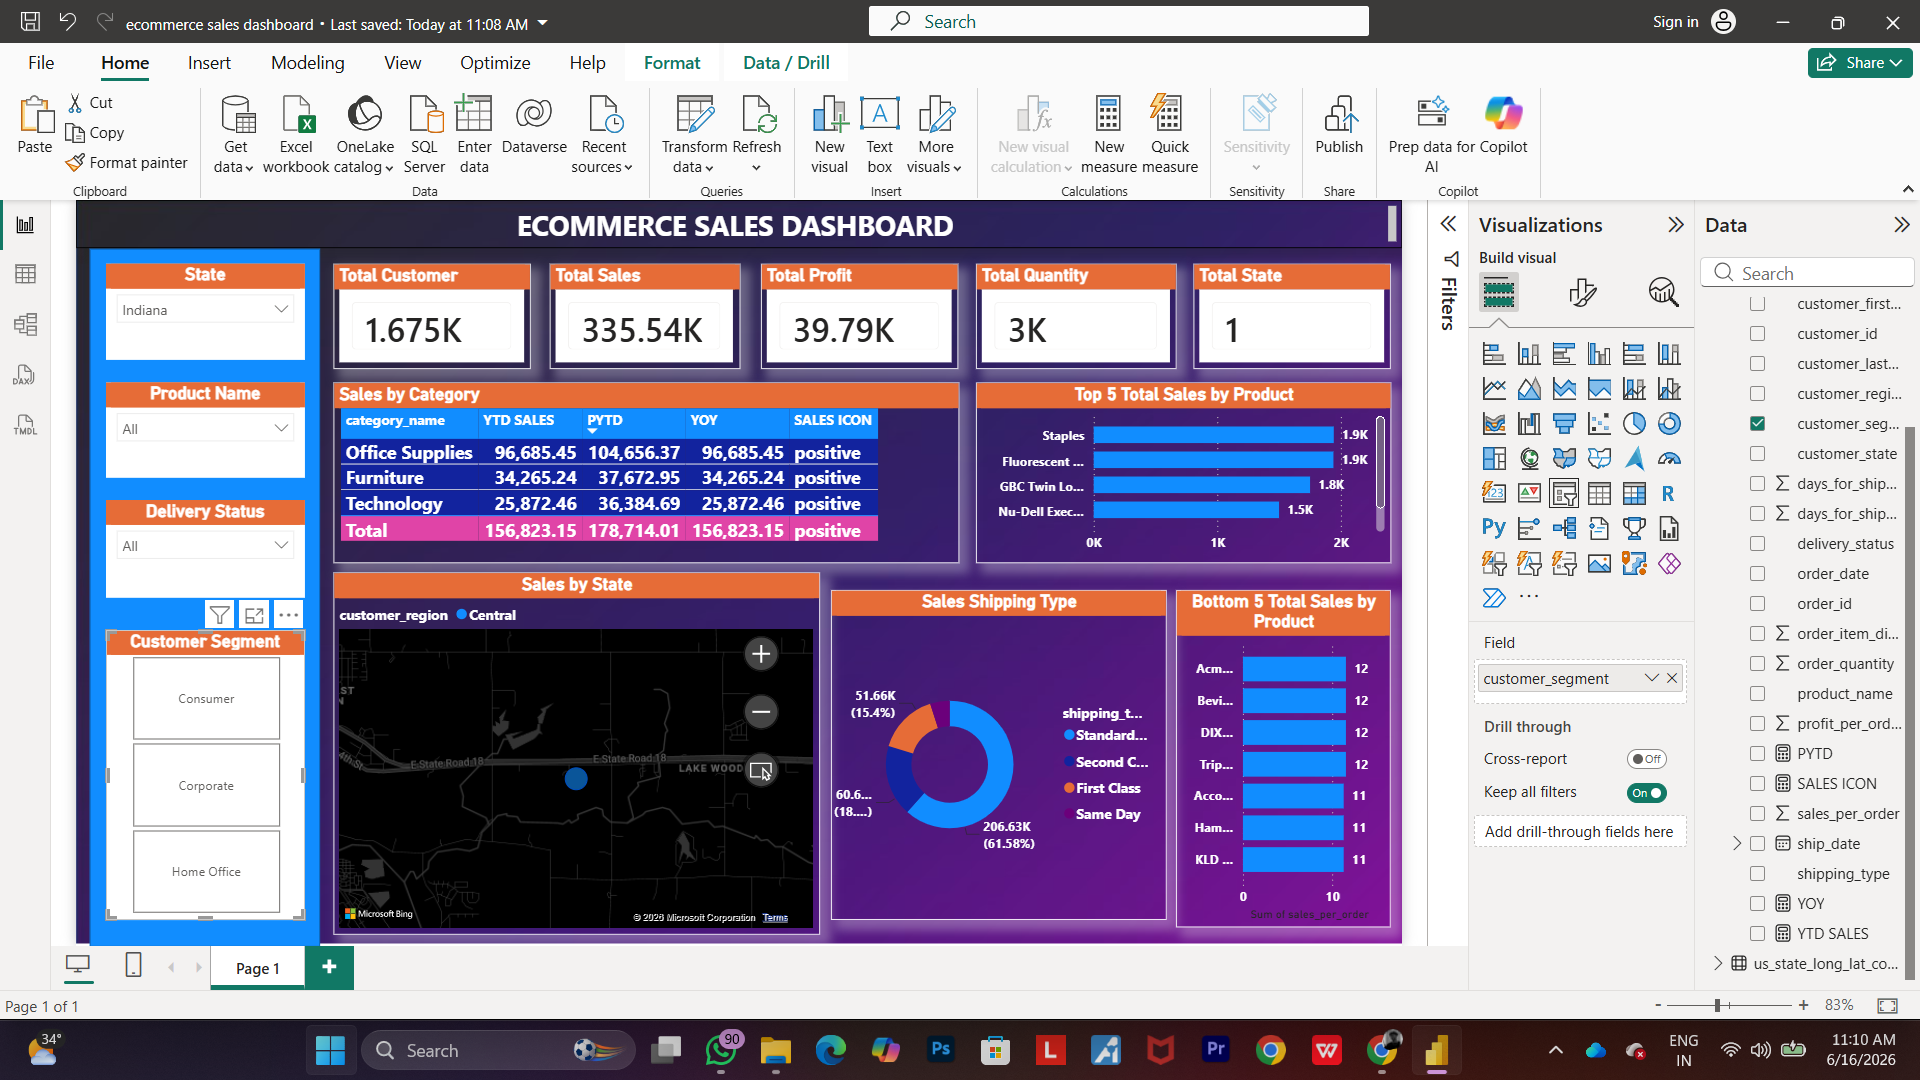

What the dashboard file says about the page in this screenshot:
{"tool":"powerbi","page":{"name":"Page 1","canvas":[1280,720],"ordinal":0},"visuals":[{"type":"textbox","box":[0,0,1280.3,46.7],"z":0},{"type":"shape","box":[13.7,46.7,222.3,673.8],"z":1000},{"type":"cardVisual","title":"Total Customer","fields":{"Data":["CountNonNull(ecommerce_data.customer_id)"]},"box":[248.4,61.7,190.7,101.5],"z":2000},{"type":"cardVisual","title":"Total Sales","fields":{"Data":["Sum(ecommerce_data.sales_per_order)"]},"box":[456.9,61.7,183.9,101.5],"z":3000},{"type":"cardVisual","title":"Total Profit","fields":{"Data":["Sum(ecommerce_data.profit_per_order)"]},"box":[661.4,61.7,190.7,101.5],"z":4000},{"type":"cardVisual","title":"Total Quantity","fields":{"Data":["Sum(ecommerce_data.order_quantity)"]},"box":[868.6,61.7,193.5,101.5],"z":5000},{"type":"cardVisual","title":"Total State","fields":{"Data":["Count(ecommerce_data.customer_state)"]},"box":[1078.6,61.7,190.7,101.5],"z":6000},{"type":"tableEx","title":"Sales by Category","fields":{"Values":["ecommerce_data.category_name","ecommerce_data.YTD SALES","ecommerce_data.PYTD","ecommerce_data.YOY","ecommerce_data.SALES ICON"]},"box":[248.4,175.6,603.8,174.3],"z":7000},{"type":"barChart","title":"Top 5 Total Sales by Product","fields":{"Category":["ecommerce_data.product_name"],"Y":["Sum(ecommerce_data.sales_per_order)"]},"box":[868.6,175.6,400.7,174.3],"z":8000},{"type":"map","title":"Sales by State","fields":{"X":["us_state_long_lat_codes.longitude"],"Y":["us_state_long_lat_codes.latitude"],"Series":["ecommerce_data.customer_region"],"Size":["ecommerce_data.YTD SALES"]},"box":[248.4,359.5,469.3,349.9],"z":9000},{"type":"donutChart","title":"Sales Shipping Type","fields":{"Y":["Sum(ecommerce_data.sales_per_order)"],"Category":["ecommerce_data.shipping_type"]},"box":[728.6,376,323.8,318.4],"z":9001},{"type":"barChart","title":"Bottom 5 Total Sales by Product","fields":{"Category":["ecommerce_data.product_name"],"Y":["Sum(ecommerce_data.sales_per_order)"]},"box":[1062.1,376,207.2,325.2],"z":9002},{"type":"slicer","title":"State","fields":{"Values":["ecommerce_data.customer_state"]},"box":[29,61.5,191.8,92.9],"z":9003},{"type":"slicer","title":"Product Name","fields":{"Values":["ecommerce_data.product_name"]},"box":[29,176.1,191.8,91.7],"z":9004},{"type":"slicer","title":"Delivery Status","fields":{"Values":["ecommerce_data.delivery_status"]},"box":[29,289.5,191.8,94.1],"z":9005},{"type":"slicer","title":"Customer Segment","fields":{"Values":["ecommerce_data.customer_segment"]},"box":[29,415,191.8,279.9],"z":9006}]}

Visuals, with their boxes on the page's 1280x720 design canvas (x1, y1, x2, y2). These are canvas units, not pixel positions in the 1920x1080 screenshot, which may show the page scaled, cropped or inside an application window:
textbox: detection(0, 0, 1280, 47)
shape: detection(14, 47, 236, 720)
"Total Customer" cardVisual: detection(248, 62, 439, 163)
"Total Sales" cardVisual: detection(457, 62, 641, 163)
"Total Profit" cardVisual: detection(661, 62, 852, 163)
"Total Quantity" cardVisual: detection(869, 62, 1062, 163)
"Total State" cardVisual: detection(1079, 62, 1269, 163)
"Sales by Category" tableEx: detection(248, 176, 852, 350)
"Top 5 Total Sales by Product" barChart: detection(869, 176, 1269, 350)
"Sales by State" map: detection(248, 360, 718, 709)
"Sales Shipping Type" donutChart: detection(729, 376, 1052, 694)
"Bottom 5 Total Sales by Product" barChart: detection(1062, 376, 1269, 701)
"State" slicer: detection(29, 62, 221, 154)
"Product Name" slicer: detection(29, 176, 221, 268)
"Delivery Status" slicer: detection(29, 290, 221, 384)
"Customer Segment" slicer: detection(29, 415, 221, 695)
